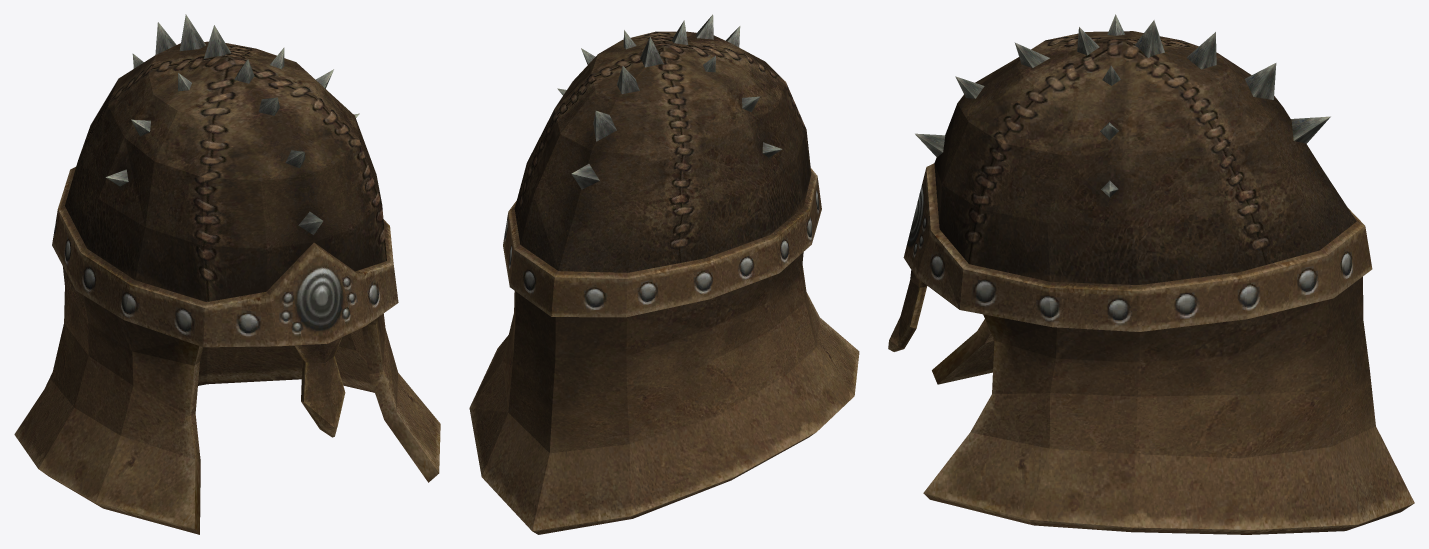
The model's file is helm3.glb.
The picture shows the model from 3 angles, left to right: view 1: azimuth 30°, elevation 25°; view 2: azimuth 150°, elevation 25°; view 3: azimuth 270°, elevation 25°; orthographic projection. The views are drawn at different scales.
Visible parts, largest first — view 1: zengin; view 2: zengin; view 3: zengin.
Boxes of the visible parts, bbox=[...] form: zengin: bbox=[14, 14, 440, 534]; zengin: bbox=[469, 14, 859, 534]; zengin: bbox=[888, 14, 1414, 534].
Size of the model in its own units: 0.3073 by 0.3813 by 0.3719.
1 material, 1 textured.
